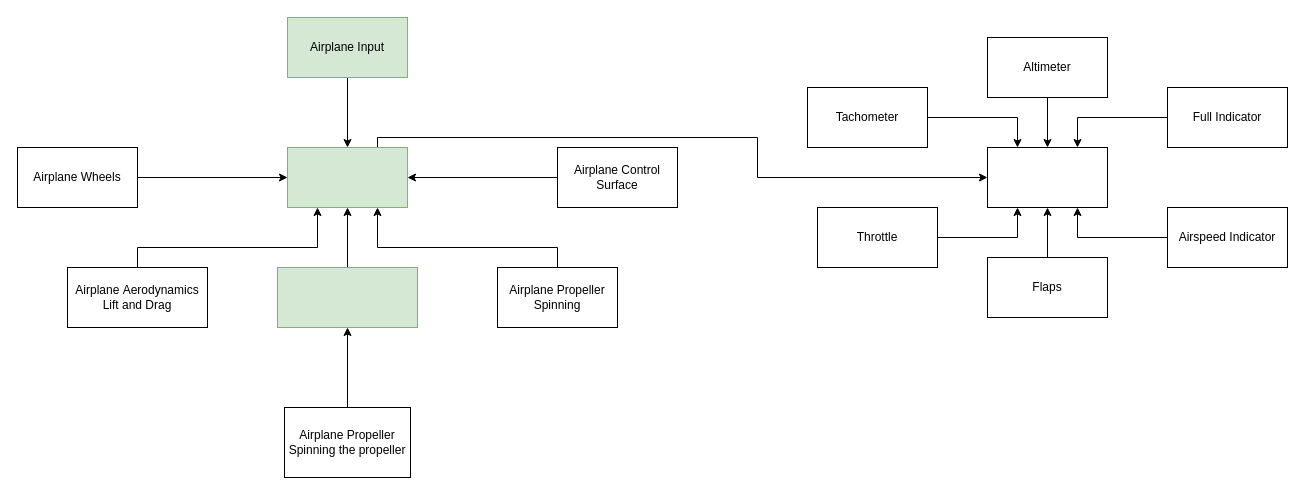
The diagram is 1305 pixels wide and 495 high, and some of its shapes have lost their labels. The centre of each missing label's shape, as x and y in pixels:
"Airplane Controller Global Controller" belongs at point (347, 177).
"Airplane Engine RPM Horsepower" belongs at point (347, 297).
"Airplane UI" belongs at point (1047, 177).
